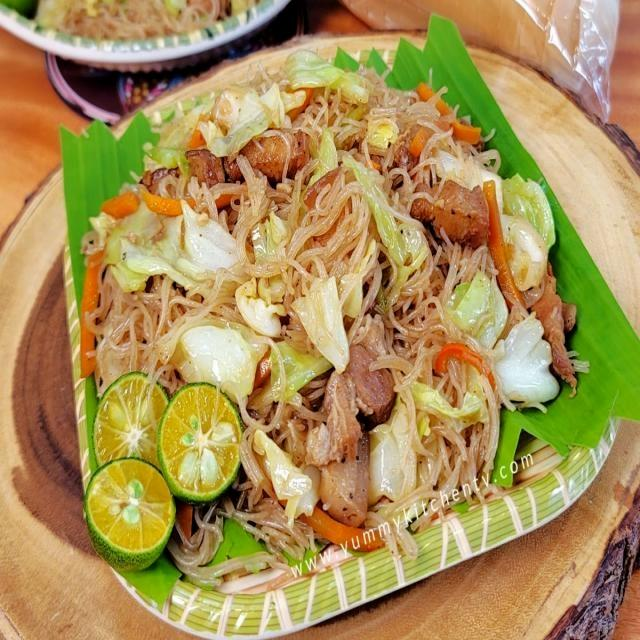pancit bihon: (99, 49, 567, 555)
